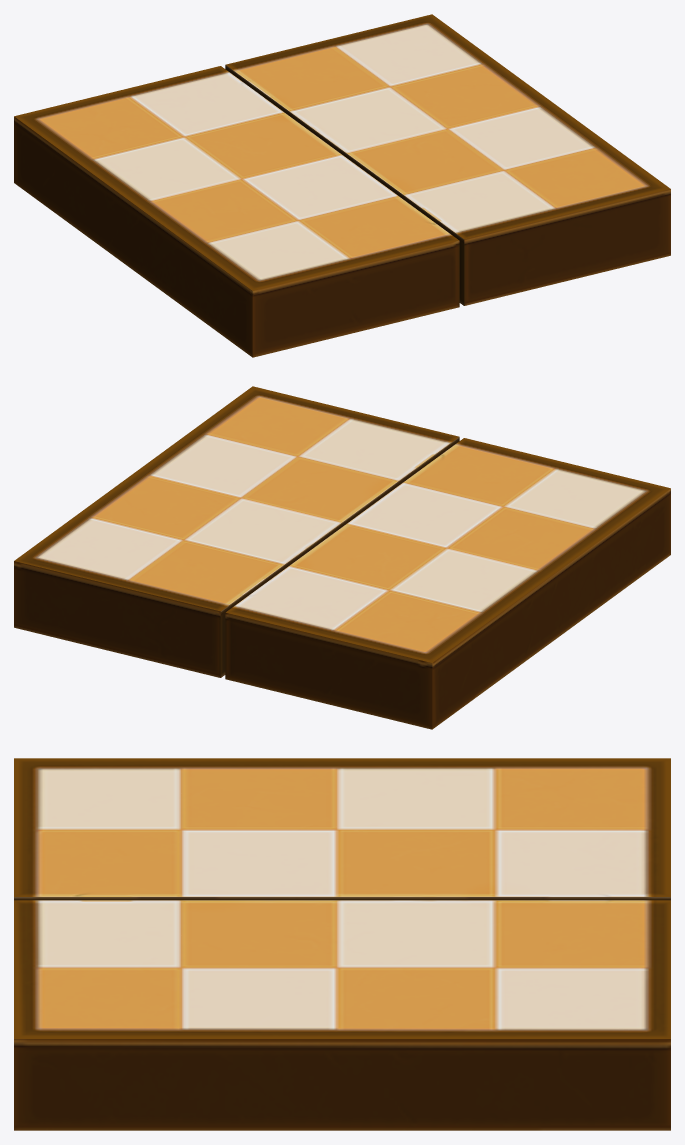
Rendered from SE_Checkers_01.fbx.
3 renders of one model, top to bottom at view 1: azimuth 30°, elevation 25°; view 2: azimuth 150°, elevation 25°; view 3: azimuth 270°, elevation 25°, orthographic. The views are drawn at different scales.
Visible parts, largest first — view 1: SE_Checkers_01; view 2: SE_Checkers_01; view 3: SE_Checkers_01.
Part boxes in pixels (x1,y1,x2,y2): SE_Checkers_01: [14, 14, 670, 357]; SE_Checkers_01: [14, 386, 670, 729]; SE_Checkers_01: [14, 758, 670, 1130].
Bounding box in the file's own units: 1.76 × 0.3075 × 1.75.
